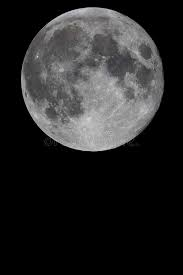moon: (19, 6, 172, 153)
